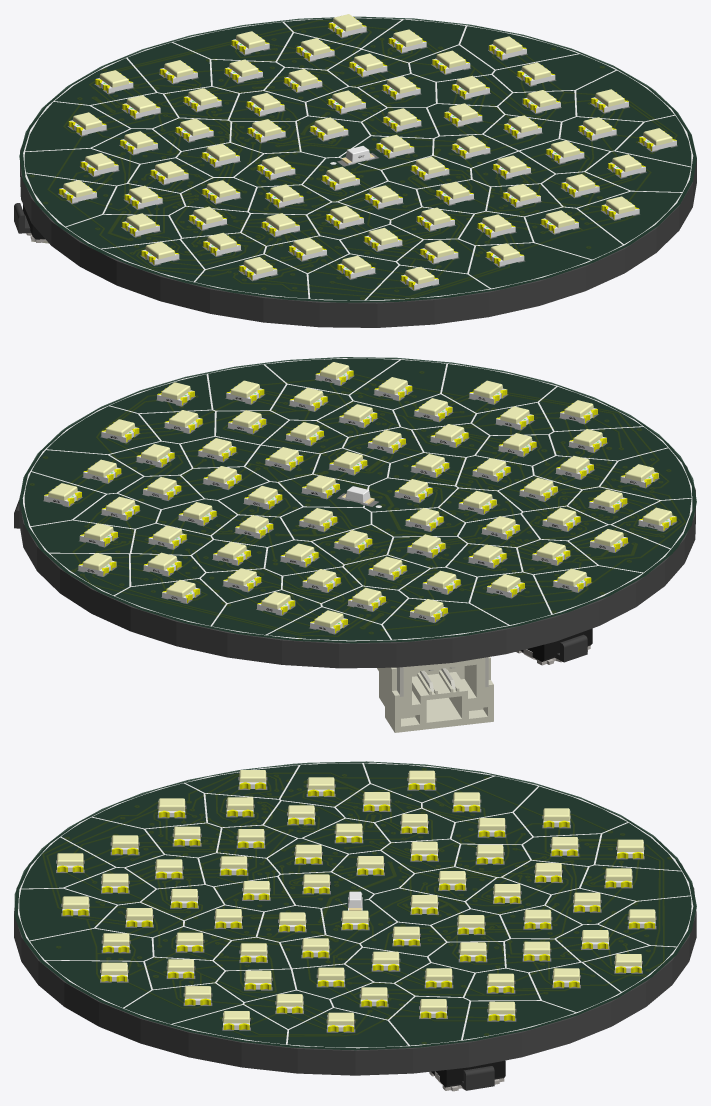
File: board.glb
The picture shows the model from 3 angles, top to bottom: view 1: azimuth 30°, elevation 25°; view 2: azimuth 150°, elevation 25°; view 3: azimuth 270°, elevation 25°; orthographic projection.
Visible parts, largest first — view 1: sunflower_soldermask, sunflower_PCB, LED-ARRAY-SMD_4P-L1.6-W1.5-BR_XL-1615RGBC-RF (×66), sunflower_silkscreen, sunflower_copper, sunflower_pad, SW-SMD_EVQP7C01P-L3.6-W3.5-H1.4-P3.6-LS4.7; view 2: sunflower_soldermask, sunflower_PCB, LED-ARRAY-SMD_4P-L1.6-W1.5-BR_XL-1615RGBC-RF (×66), sunflower_silkscreen, sunflower_copper, JST_GH_SM02B-GHS-TB_1x02-1MP_P1.25mm_Horizontal, sunflower_pad, SW-SMD_EVQP7C01P-L3.6-W3.5-H1.4-P3.6-LS4.7; view 3: sunflower_soldermask, sunflower_PCB, LED-ARRAY-SMD_4P-L1.6-W1.5-BR_XL-1615RGBC-RF (×66), sunflower_silkscreen, sunflower_copper, sunflower_pad, SW-SMD_EVQP7C01P-L3.6-W3.5-H1.4-P3.6-LS4.7.
Part boxes in pixels (bbox=[...]): sunflower_soldermask: bbox=[19, 16, 696, 302]; sunflower_PCB: bbox=[20, 18, 696, 327]; LED-ARRAY-SMD_4P-L1.6-W1.5-BR_XL-1615RGBC-RF (×66): bbox=[59, 14, 676, 289]; sunflower_silkscreen: bbox=[23, 17, 693, 300]; sunflower_copper: bbox=[30, 20, 676, 299]; sunflower_pad: bbox=[58, 28, 677, 290]; SW-SMD_EVQP7C01P-L3.6-W3.5-H1.4-P3.6-LS4.7: bbox=[14, 203, 46, 242]; sunflower_soldermask: bbox=[19, 357, 696, 643]; sunflower_PCB: bbox=[19, 359, 695, 668]; LED-ARRAY-SMD_4P-L1.6-W1.5-BR_XL-1615RGBC-RF (×66): bbox=[44, 362, 676, 633]; sunflower_silkscreen: bbox=[22, 358, 692, 641]; sunflower_copper: bbox=[30, 372, 685, 639]; JST_GH_SM02B-GHS-TB_1x02-1MP_P1.25mm_Horizontal: bbox=[377, 657, 493, 732]; sunflower_pad: bbox=[43, 375, 676, 634]; SW-SMD_EVQP7C01P-L3.6-W3.5-H1.4-P3.6-LS4.7: bbox=[516, 628, 592, 665]; sunflower_soldermask: bbox=[14, 761, 696, 1050]; sunflower_PCB: bbox=[14, 764, 696, 1075]; LED-ARRAY-SMD_4P-L1.6-W1.5-BR_XL-1615RGBC-RF (×66): bbox=[57, 770, 655, 1031]; sunflower_silkscreen: bbox=[18, 762, 693, 1048]; sunflower_copper: bbox=[43, 769, 671, 1043]; sunflower_pad: bbox=[56, 777, 656, 1032]; SW-SMD_EVQP7C01P-L3.6-W3.5-H1.4-P3.6-LS4.7: bbox=[429, 1060, 505, 1091].
Bounding box in the file's own units: 0.038 × 0.00652 × 0.038.
